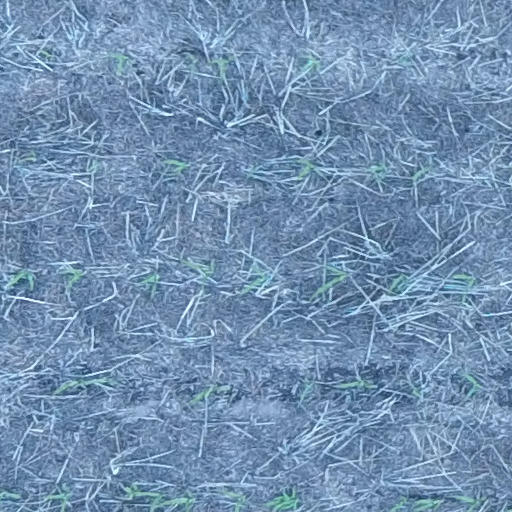planta: (312, 263, 348, 299), (183, 258, 213, 291), (55, 377, 111, 394), (241, 267, 269, 295), (191, 385, 228, 403), (210, 56, 234, 81), (452, 274, 476, 299), (8, 269, 35, 290), (293, 157, 316, 178), (339, 376, 374, 389), (367, 163, 388, 184), (464, 373, 481, 398), (62, 268, 83, 288), (140, 274, 161, 294), (388, 273, 408, 292), (163, 159, 186, 175), (411, 164, 431, 182), (109, 54, 128, 72), (302, 58, 322, 71)
